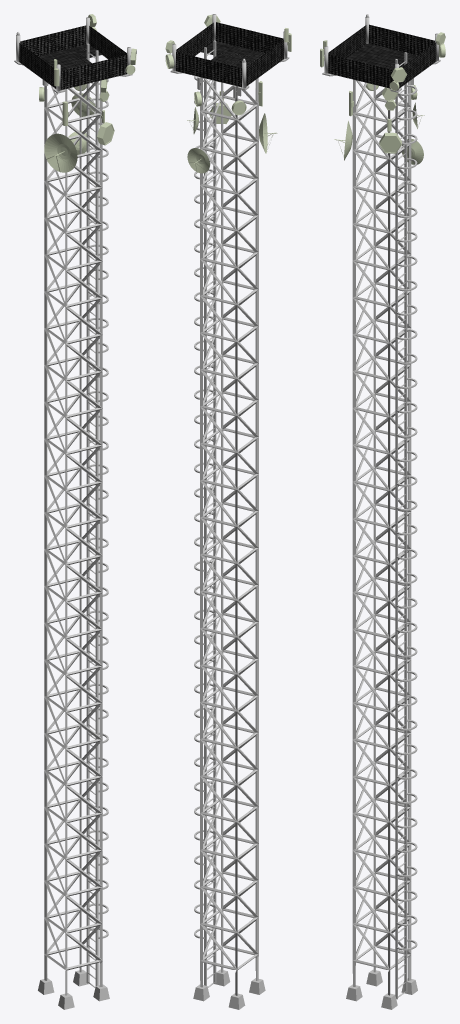
File: RadioTower.obj
3 views of the same model, side by side, from view 1: azimuth 30°, elevation 25°; view 2: azimuth 150°, elevation 25°; view 3: azimuth 330°, elevation 25° (orthographic).
Visible parts, largest first — view 1: Tower_Cube.018, Ladder_Cylinder.022, Grid_Plane.004, Antenna.001_Circle.001, Foot_Cube.016, Columns_Cylinder.021, Antenna_Cylinder.020; view 2: Tower_Cube.018, Ladder_Cylinder.022, Grid_Plane.004, Foot_Cube.016, Antenna.003_Circle.006, Columns_Cylinder.021; view 3: Tower_Cube.018, Ladder_Cylinder.022, Grid_Plane.004, Foot_Cube.016, Antenna_Cylinder.020, Columns_Cylinder.021.
Part boxes in pixels (x1=…): Tower_Cube.018: x1=44, y1=80, x2=102, y2=995; Ladder_Cylinder.022: x1=86, y1=43, x2=108, y2=987; Grid_Plane.004: x1=19, y1=25, x2=127, y2=90; Antenna.001_Circle.001: x1=44, y1=133, x2=77, y2=172; Foot_Cube.016: x1=38, y1=969, x2=109, y2=1009; Columns_Cylinder.021: x1=16, y1=17, x2=131, y2=91; Antenna_Cylinder.020: x1=97, y1=122, x2=114, y2=145; Tower_Cube.018: x1=200, y1=77, x2=258, y2=995; Ladder_Cylinder.022: x1=194, y1=40, x2=216, y2=987; Grid_Plane.004: x1=176, y1=22, x2=283, y2=87; Foot_Cube.016: x1=193, y1=969, x2=265, y2=1009; Antenna.003_Circle.006: x1=187, y1=148, x2=209, y2=173; Columns_Cylinder.021: x1=172, y1=14, x2=287, y2=88; Tower_Cube.018: x1=352, y1=79, x2=411, y2=995; Ladder_Cylinder.022: x1=395, y1=52, x2=417, y2=999; Grid_Plane.004: x1=328, y1=24, x2=436, y2=88; Foot_Cube.016: x1=346, y1=969, x2=417, y2=1009; Antenna_Cylinder.020: x1=379, y1=132, x2=401, y2=153; Columns_Cylinder.021: x1=324, y1=17, x2=438, y2=90.
Size of the model in its own units: 4.82 by 52.07 by 4.99.
